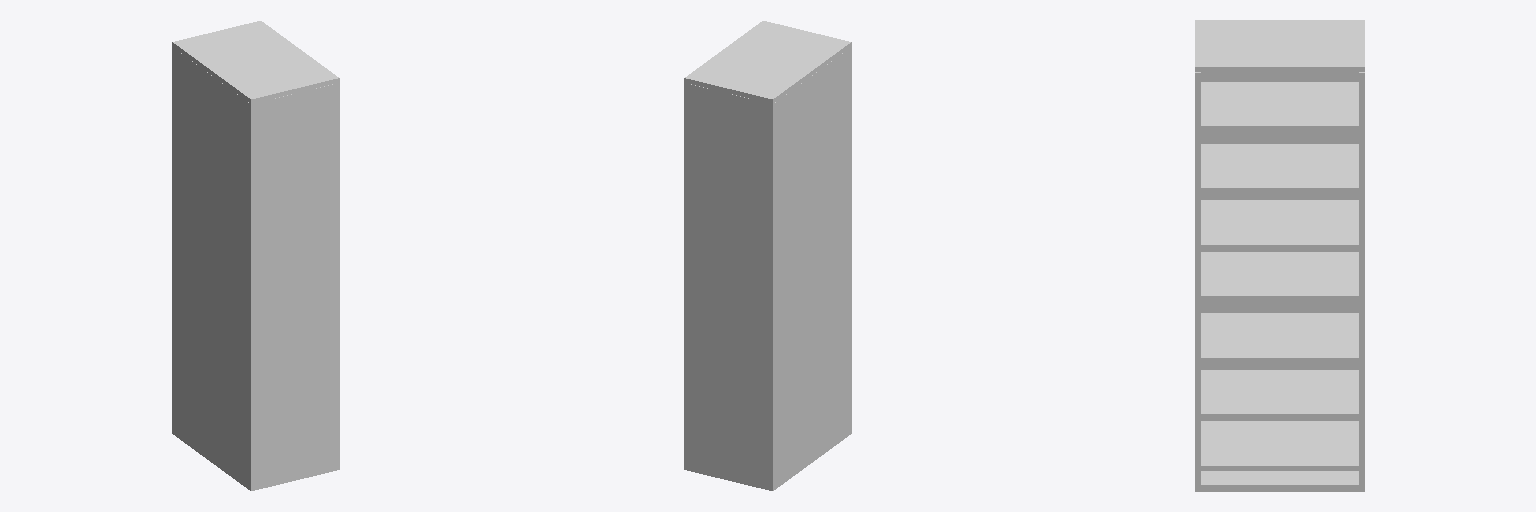
robot.urdf — room602-tableware-shelf1:
<?xml version="1.0"?>
<robot name="room602-tableware-shelf1"
       xmlns:xi="http://www.w3.org/2001/XInclude"
       xmlns:gazebo="http://playerstage.sourceforge.net/gazebo/xmlschema/#gz"
       xmlns:model="http://playerstage.sourceforge.net/gazebo/xmlschema/#model"
       xmlns:sensor="http://playerstage.sourceforge.net/gazebo/xmlschema/#sensor"
       xmlns:body="http://playerstage.sourceforge.net/gazebo/xmlschema/#body"
       xmlns:geom="http://playerstage.sourceforge.net/gazebo/xmlschema/#geom"
       xmlns:joint="http://playerstage.sourceforge.net/gazebo/xmlschema/#joint"
       xmlns:interface="http://playerstage.sourceforge.net/gazebo/xmlschema/#interface"
       xmlns:rendering="http://playerstage.sourceforge.net/gazebo/xmlschema/#rendering"
       xmlns:renderable="http://playerstage.sourceforge.net/gazebo/xmlschema/#renderable"
       xmlns:controller="http://playerstage.sourceforge.net/gazebo/xmlschema/#controller"
       xmlns:physics="http://playerstage.sourceforge.net/gazebo/xmlschema/#physics">
  <gazebo>
    <static>false</static>
  </gazebo>
  <link name="nil_link">
    <visual>
      <origin xyz="0 0 0" rpy="0 -0 0"/>
      <geometry>
        <mesh filename="model://room602-tableware-shelf1/meshes/nil_link_mesh.dae" scale="1 1 1" />
      </geometry>
    </visual>
    <collision>
      <origin xyz="0 0 0" rpy="0 -0 0"/>
      <geometry>
        <mesh filename="model://room602-tableware-shelf1/meshes/nil_link_mesh.dae" scale="1 1 1" />
      </geometry>
    </collision>
    <inertial>
      <mass value="0.001" />
      <origin xyz="0 0 0" rpy="0 -0 0"/>
      <inertia ixx="1e-09" ixy="0" ixz="0" iyy="1e-09" iyz="0" izz="1e-09"/>
    </inertial>
  </link>
  <gazebo reference="nil_link">
    <mu1>0.9</mu1>
    <mu2>0.9</mu2>
  </gazebo>
</robot>

--- Facts derived from the render (not from the file) ---
The picture shows the robot from 3 angles, left to right: view 1: azimuth 30°, elevation 25°; view 2: azimuth 150°, elevation 25°; view 3: azimuth 270°, elevation 25°; orthographic projection.
Model room602-tableware-shelf1 with 1 links and 0 joints (none), rooted at nil_link, posed all joints at 0.
Links seen in each view (by area): view 1: nil_link; view 2: nil_link; view 3: nil_link.
Link boxes in pixels (x1,y1,x2,y2): nil_link: (172, 21, 339, 490); nil_link: (684, 21, 851, 490); nil_link: (1195, 20, 1364, 491).
Size in the robot's own frame: 0.39 by 0.6 by 1.65 metres.
Meshes: 1 distinct files referenced, 1 mesh visuals loaded (1 Collada DAE).
